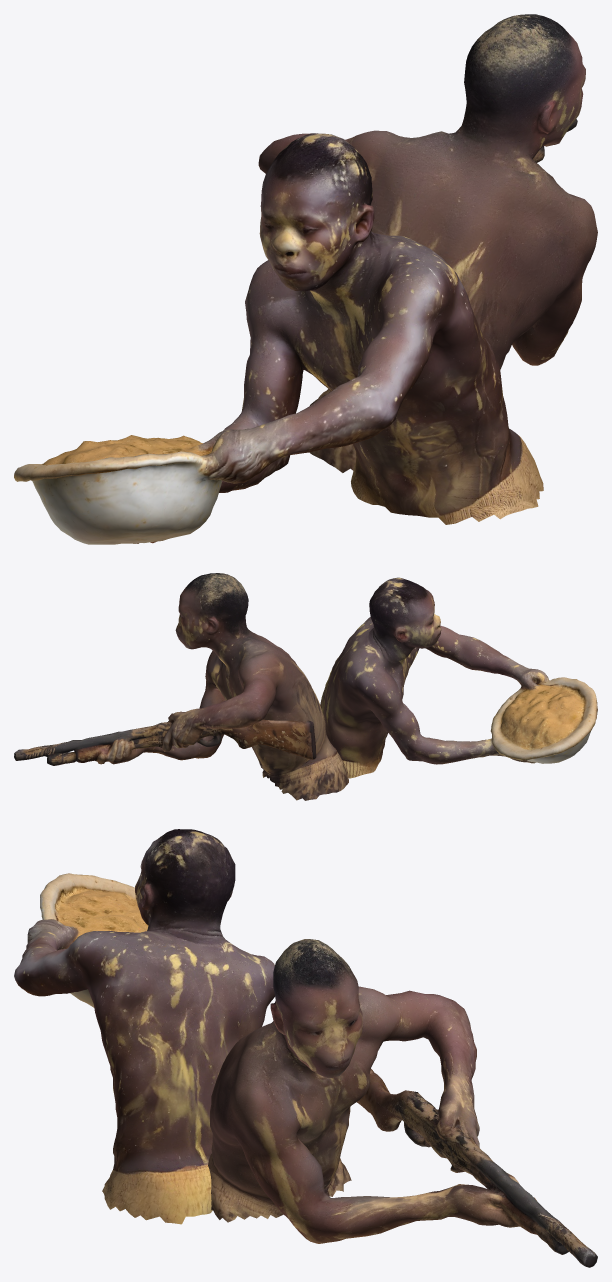
The model's file is yinyang.fbx.
3 renders of one model, top to bottom at view 1: azimuth 30°, elevation 25°; view 2: azimuth 150°, elevation 25°; view 3: azimuth 270°, elevation 25°, orthographic. The views are drawn at different scales.
Parts seen in each view (by area): view 1: yinyang; view 2: yinyang; view 3: yinyang.
Boxes of the visible parts, box(x1,y1,x2,y2) form: yinyang: box(14, 14, 597, 544); yinyang: box(14, 573, 597, 800); yinyang: box(14, 829, 597, 1267).
Bounding box in the file's own units: 2.25 × 0.9746 × 1.66.
Materials: 2 (2 with a texture image).
